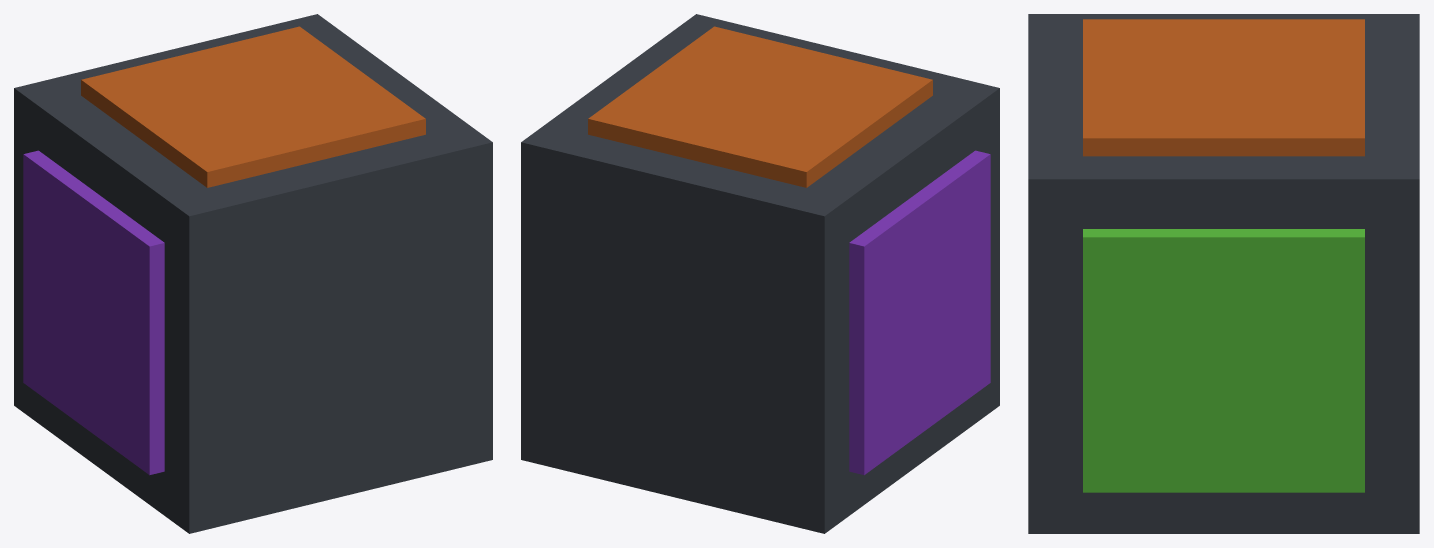
Rendered from droid-versatility-motivator.glb.
3 renders of one model, left to right at view 1: azimuth 30°, elevation 25°; view 2: azimuth 150°, elevation 25°; view 3: azimuth 270°, elevation 25°, orthographic. The views are drawn at different scales.
Parts seen in each view (by area): view 1: m; view 2: m; view 3: m.
Boxes of the visible parts, box(x1,y1,x2,y2) form: m: box(14, 14, 492, 533); m: box(521, 14, 999, 533); m: box(1028, 14, 1419, 533).
Bounding box in the file's own units: 0.1 × 0.1 × 0.0909.
